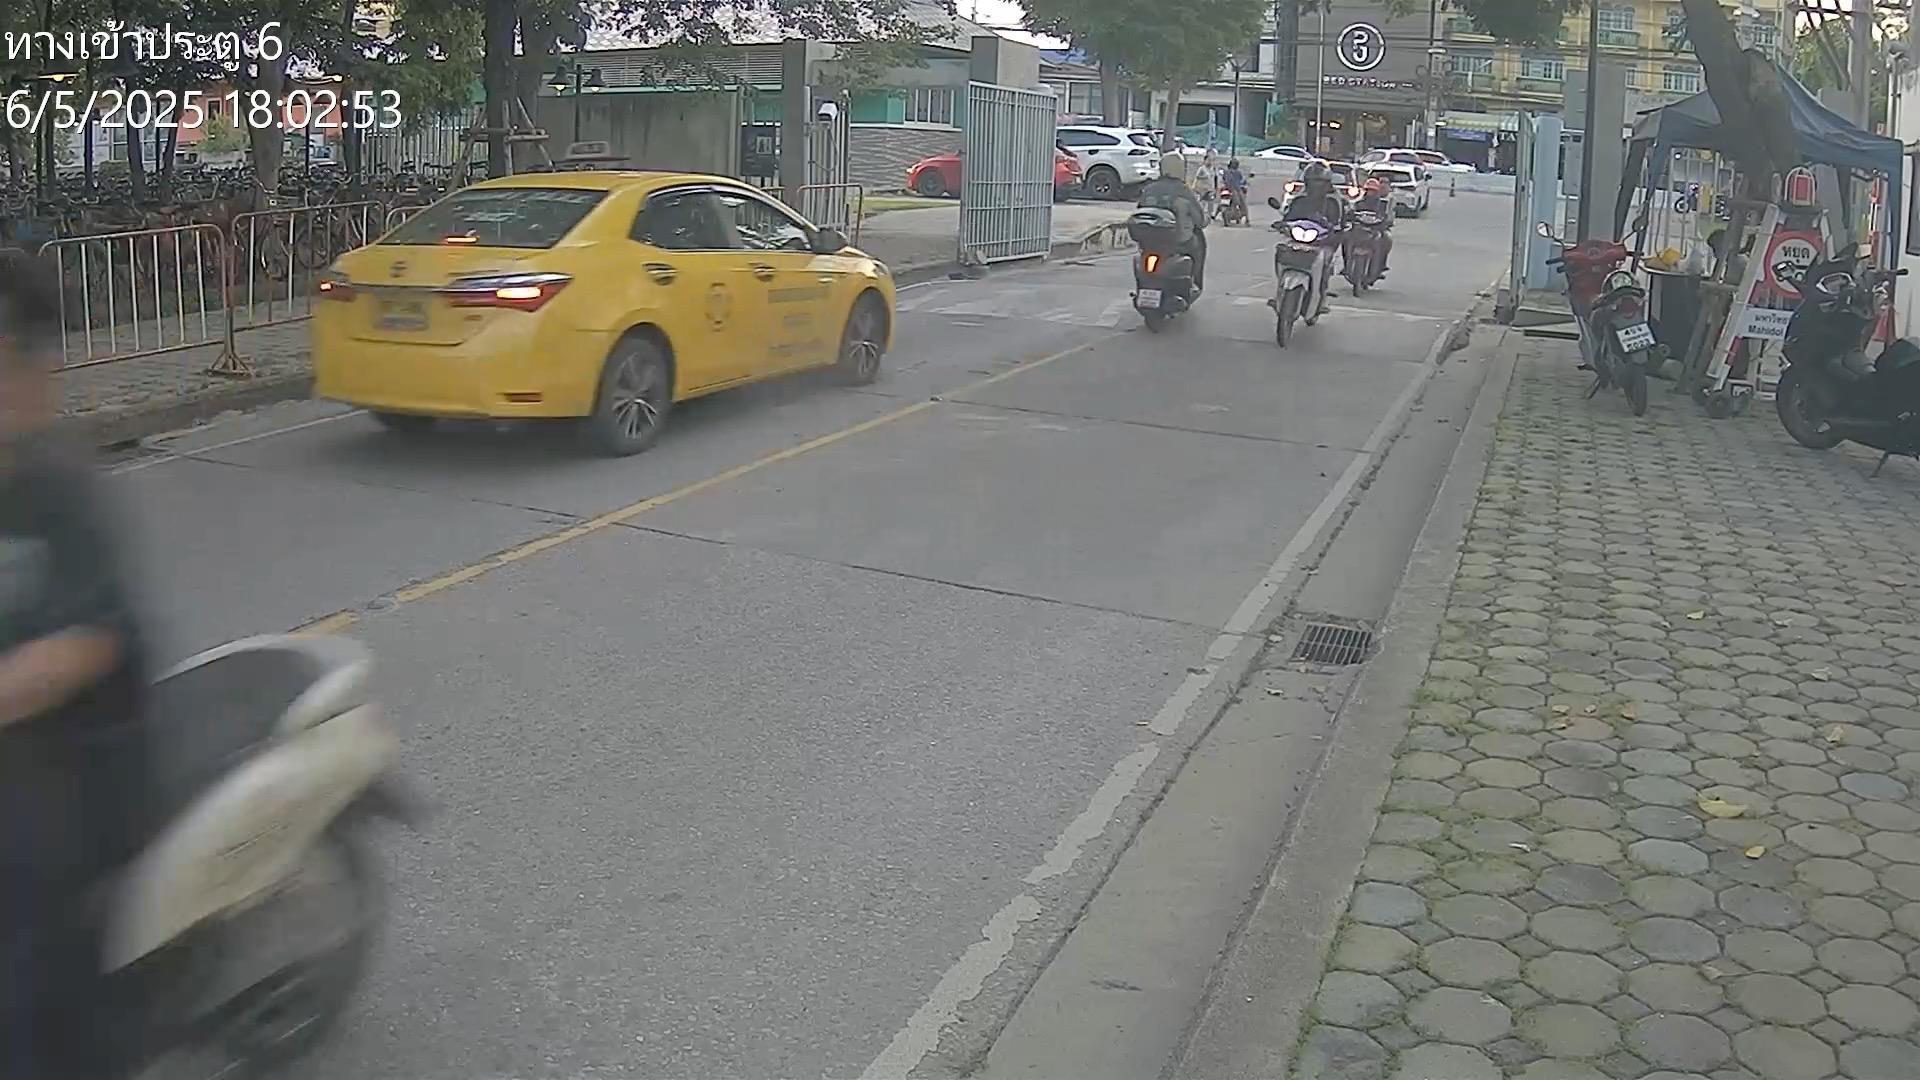With-Helmet: (1303, 160, 1333, 196), (1158, 152, 1187, 182), (1365, 178, 1381, 200), (1228, 158, 1240, 170)
